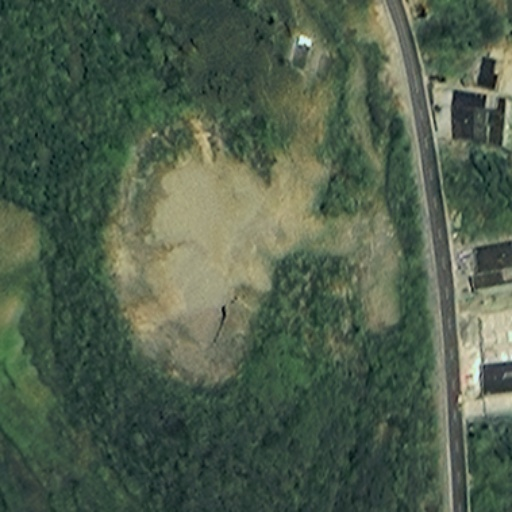landslide: (112, 119, 366, 384)
